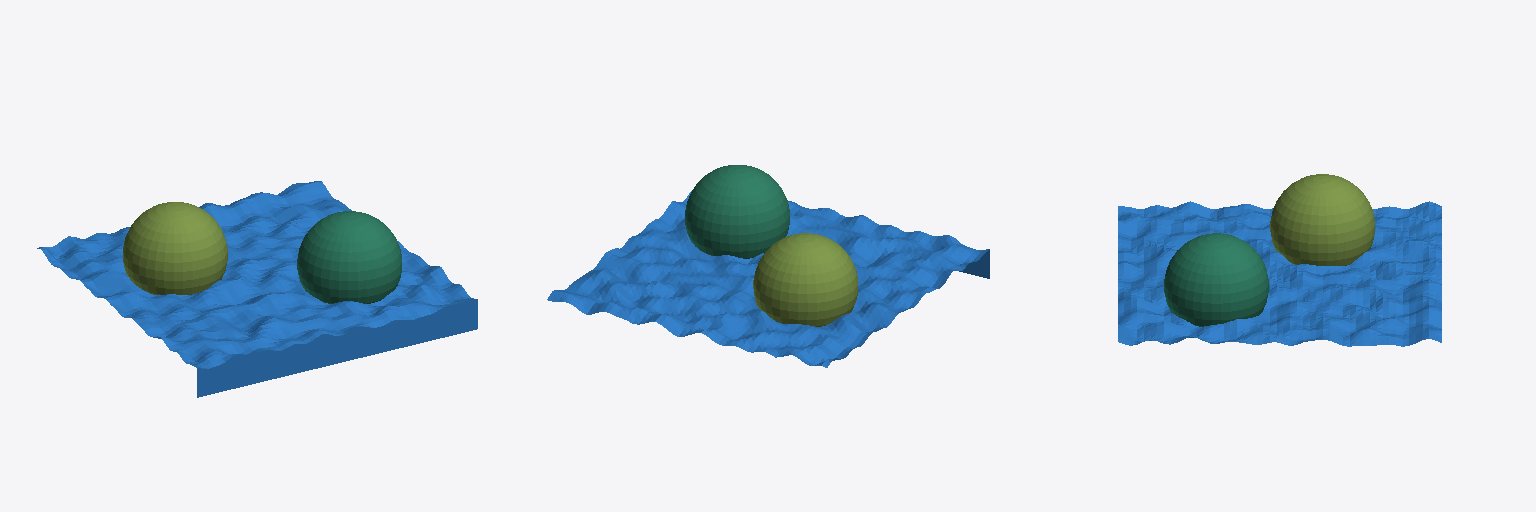
File: CornellBox-Water.obj
3 views of the same model, side by side, from view 1: azimuth 30°, elevation 25°; view 2: azimuth 150°, elevation 25°; view 3: azimuth 270°, elevation 25° (orthographic).
Parts seen in each view (by area): view 1: water, leftSphere, rightSphere; view 2: water, leftSphere, rightSphere; view 3: water, leftSphere, rightSphere.
Boxes of the visible parts, x1=… form: water: x1=37, y1=181, x2=477, y2=397; leftSphere: x1=123, y1=202, x2=227, y2=294; rightSphere: x1=297, y1=211, x2=401, y2=303; water: x1=547, y1=191, x2=989, y2=367; leftSphere: x1=753, y1=233, x2=857, y2=326; rightSphere: x1=685, y1=165, x2=789, y2=258; water: x1=1118, y1=201, x2=1441, y2=346; leftSphere: x1=1270, y1=174, x2=1374, y2=265; rightSphere: x1=1164, y1=233, x2=1268, y2=326.
Bounding box in the file's own units: 2 × 0.6584 × 2.01.